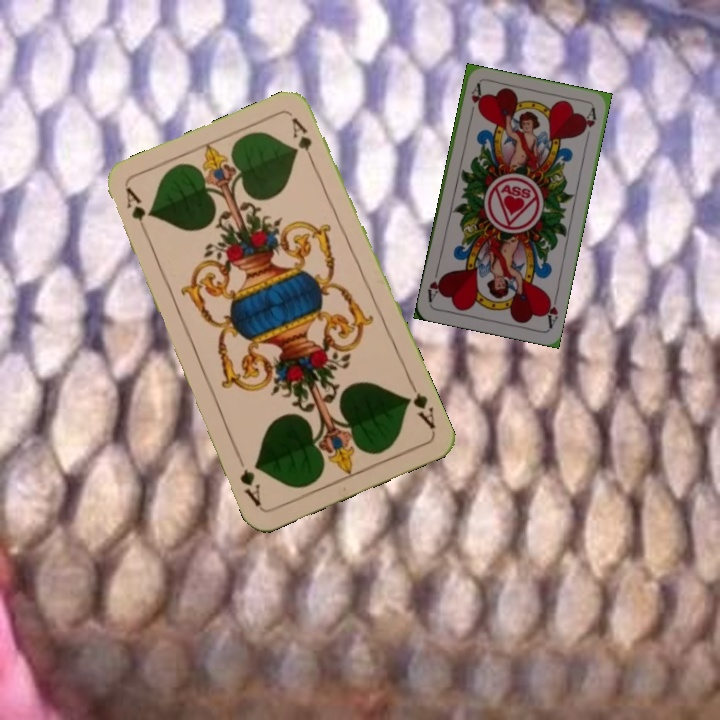GA: (401, 378, 438, 432), (121, 184, 150, 241)
HA: (541, 290, 561, 330), (466, 80, 484, 121)
